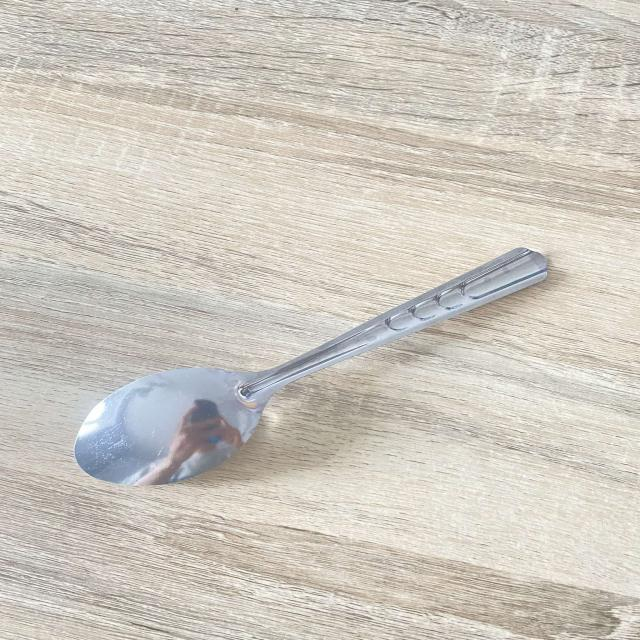spoon: (45, 245, 574, 492)
